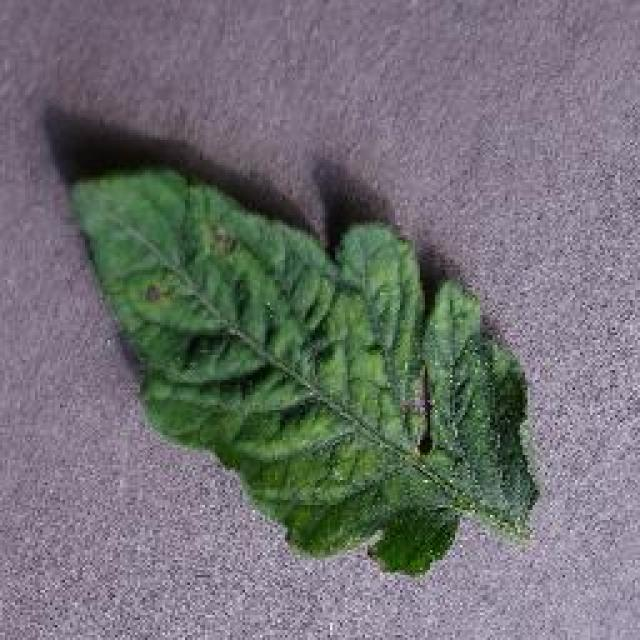Tomato spider mites leaf: (70, 165, 540, 580)
